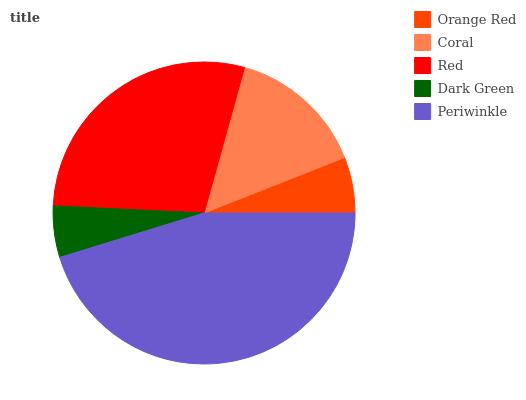legend: (406, 0, 525, 126)
sector: (61, 211, 354, 366), (53, 61, 246, 211), (205, 62, 346, 212), (207, 158, 365, 214), (52, 204, 206, 258)
